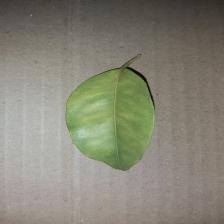greening: (61, 50, 163, 176)
